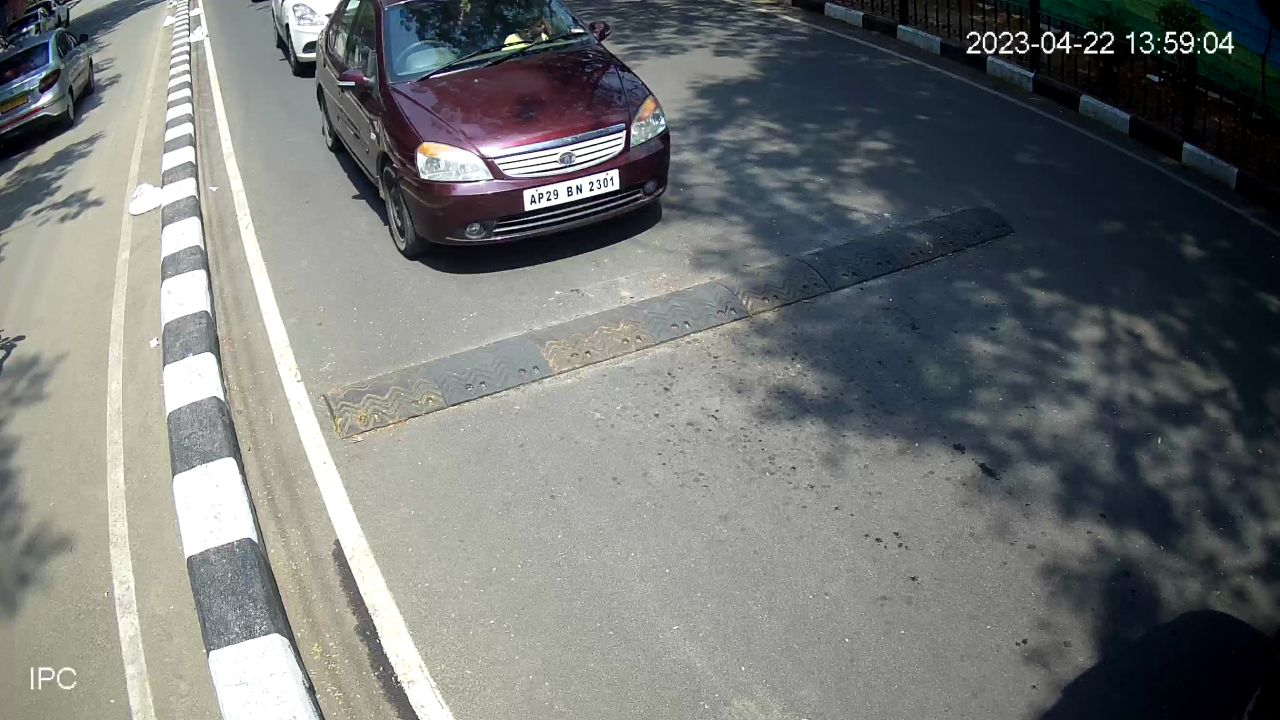license_plate: (517, 165, 624, 221)
